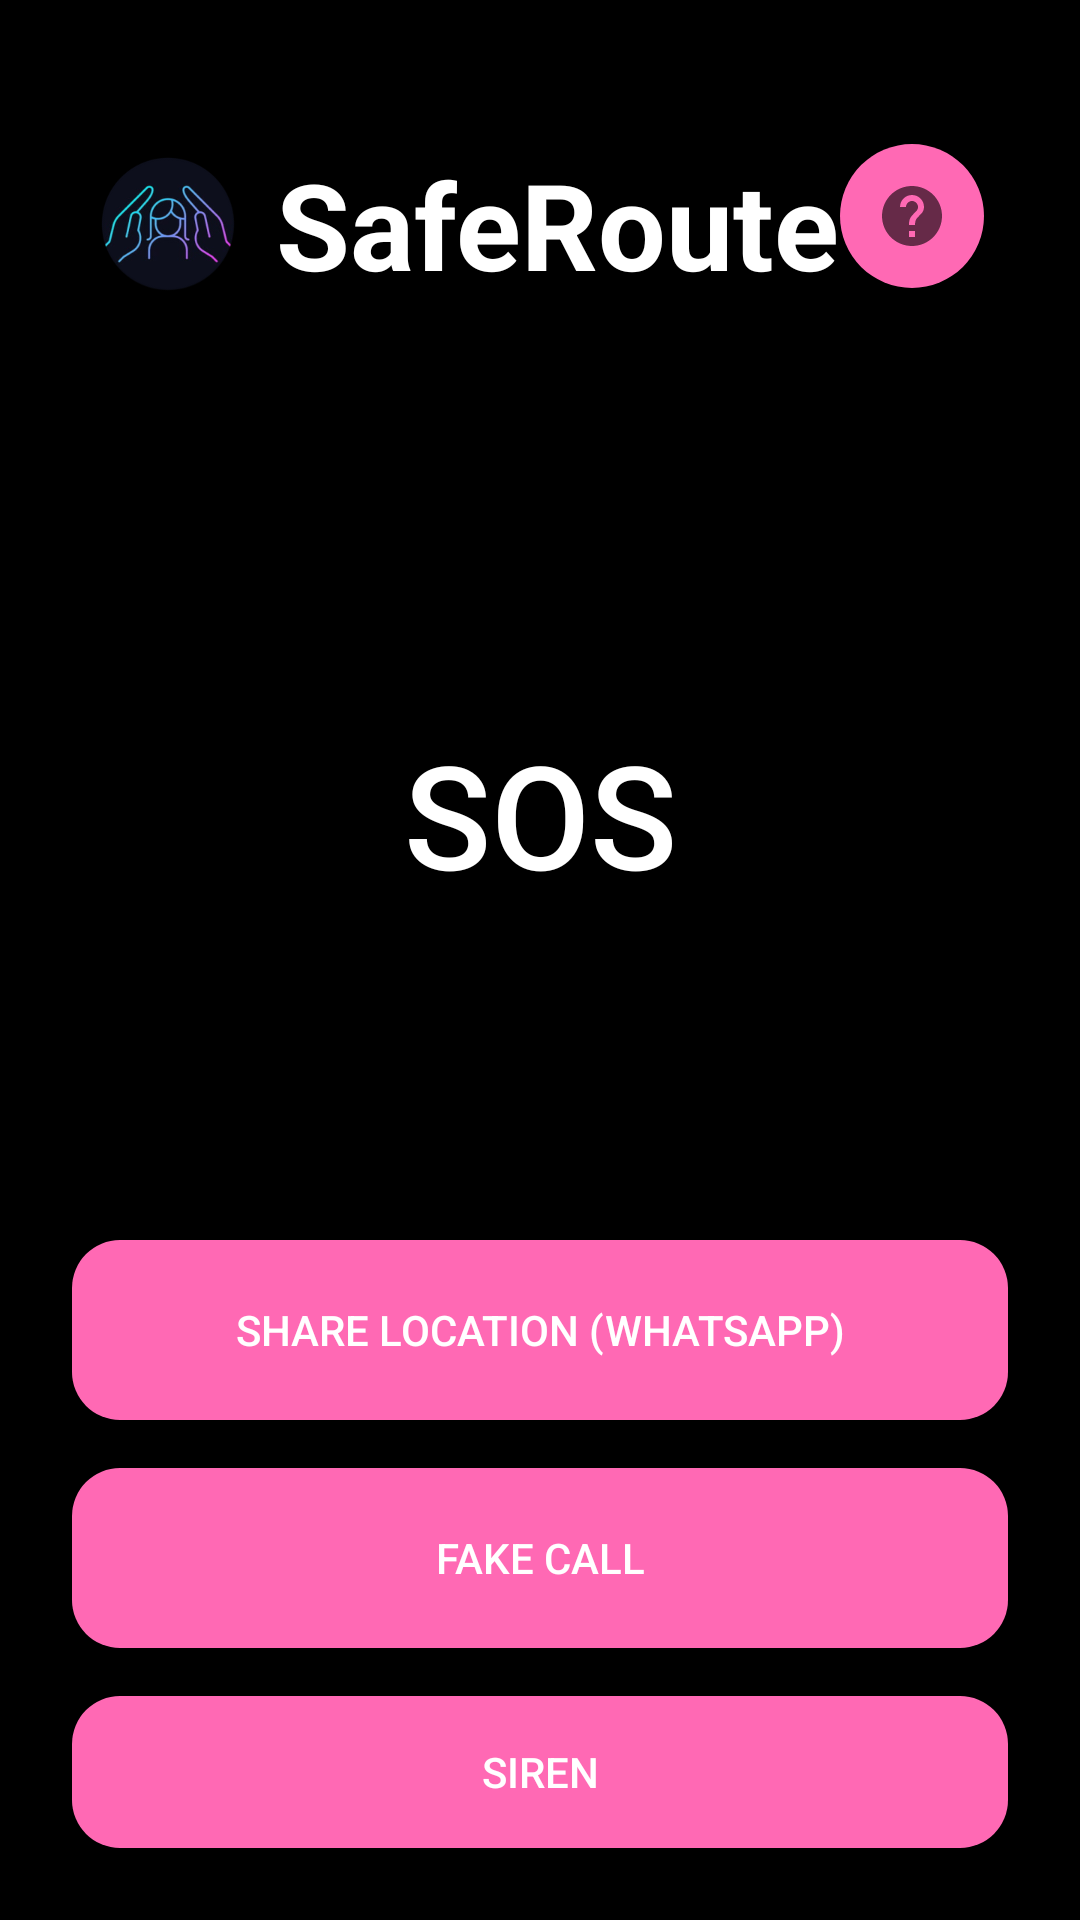

Screen size 1080×1920. Icon name, then its center in pixels as point (x, y):
question mark: point (912, 216)
